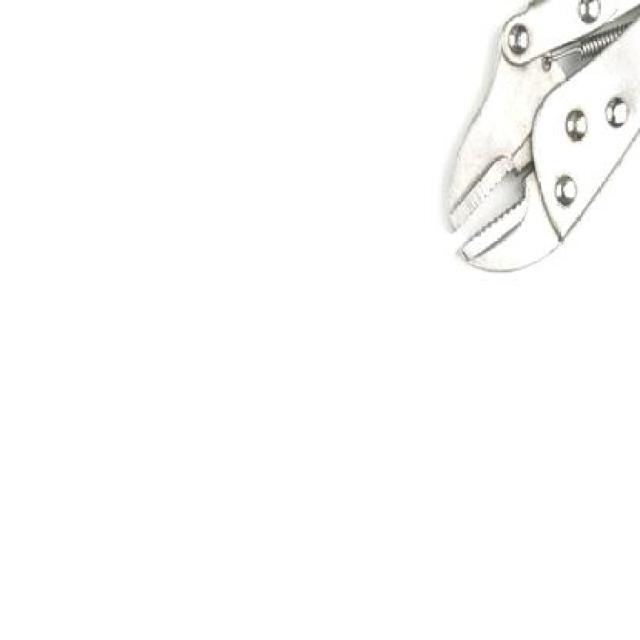pliers: (443, 0, 638, 292)
